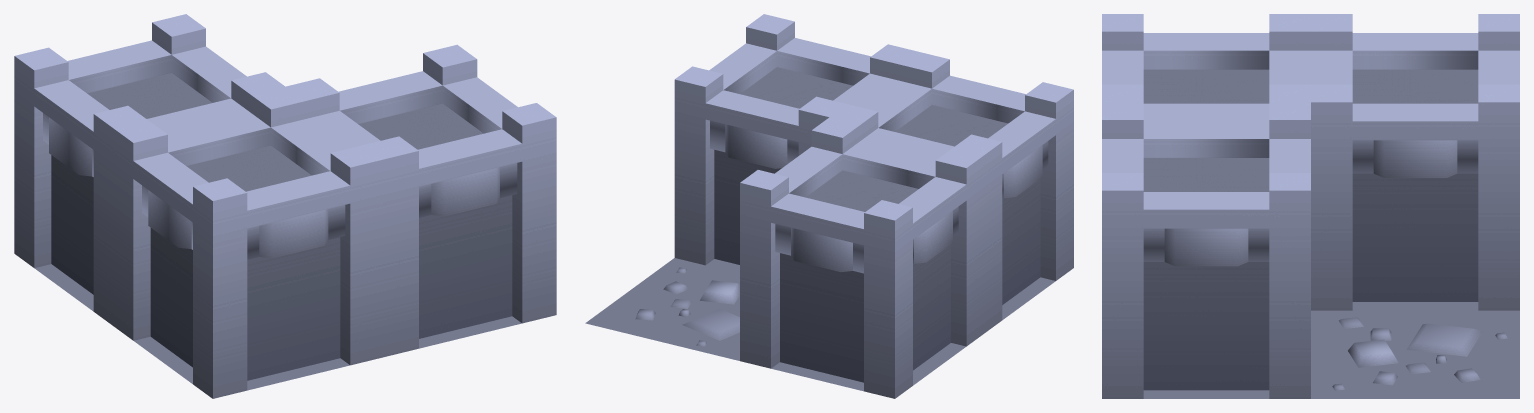
Rendered from wall3.glb.
The picture shows the model from 3 angles, left to right: view 1: azimuth 30°, elevation 25°; view 2: azimuth 150°, elevation 25°; view 3: azimuth 270°, elevation 25°; orthographic projection. The views are drawn at different scales.
Visible parts, largest first — view 1: wall, wall3, wall2; view 2: wall2, wall, wall3, floor-detail; view 3: wall2, wall3, wall, floor-detail.
Boxes of the visible parts, left/top/right/bottom form: wall: left=113, top=86, right=384, bottom=398; wall3: left=286, top=44, right=556, bottom=356; wall2: left=14, top=14, right=284, bottom=325; wall2: left=740, top=117, right=984, bottom=398; wall: left=830, top=52, right=1073, bottom=333; wall3: left=674, top=14, right=918, bottom=273; floor-detail: left=585, top=258, right=739, bottom=360; wall2: left=1311, top=14, right=1519, bottom=310; wall3: left=1102, top=102, right=1310, bottom=398; wall: left=1102, top=14, right=1310, bottom=121; floor-detail: left=1311, top=310, right=1519, bottom=398.
Bounding box in the file's own units: 2 × 1.1 × 2.
Materials: 4 (4 with a texture image).
